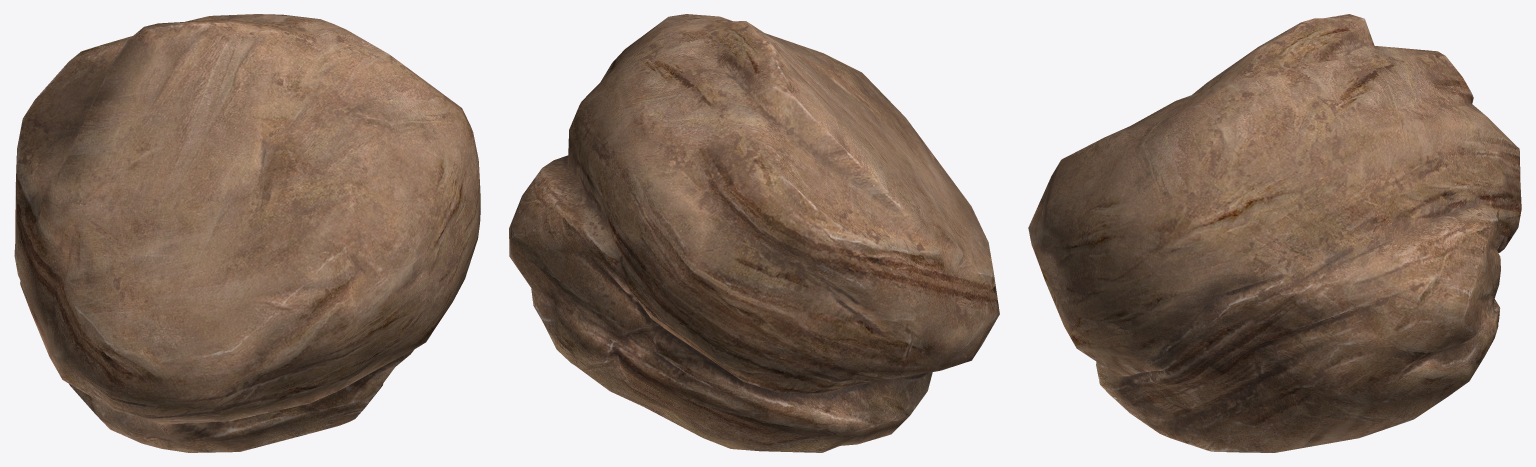
File: rock_sandstone_small_02.dae
The picture shows the model from 3 angles, left to right: view 1: azimuth 30°, elevation 25°; view 2: azimuth 150°, elevation 25°; view 3: azimuth 270°, elevation 25°; orthographic projection. The views are drawn at different scales.
Parts seen in each view (by area): view 1: rock_sandstone_small_02_lowpoly; view 2: rock_sandstone_small_02_lowpoly; view 3: rock_sandstone_small_02_lowpoly.
Boxes of the visible parts, x1,y1,x2,y2 form: rock_sandstone_small_02_lowpoly: [14, 14, 480, 452]; rock_sandstone_small_02_lowpoly: [509, 14, 999, 452]; rock_sandstone_small_02_lowpoly: [1028, 14, 1521, 452].
Bounding box in the file's own units: 2.06 × 1.97 × 2.17.
